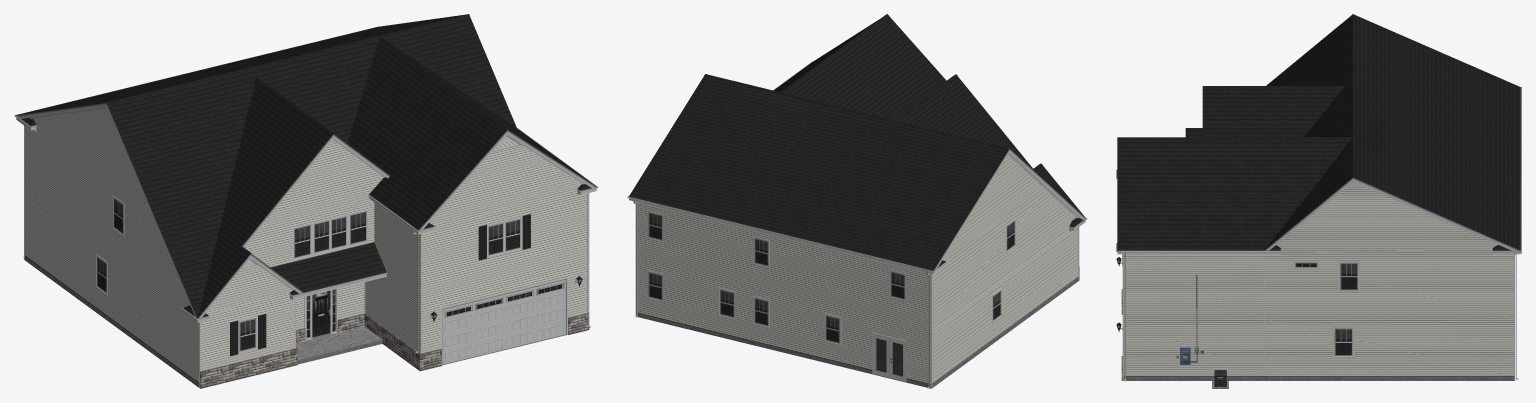
File: house27_mirror1.fbx
3 renders of one model, left to right at view 1: azimuth 30°, elevation 25°; view 2: azimuth 150°, elevation 25°; view 3: azimuth 270°, elevation 25°, orthographic. The views are drawn at different scales.
Visible parts, largest first — view 1: house27_mirror1_LOD0; view 2: house27_mirror1_LOD0; view 3: house27_mirror1_LOD0.
Boxes of the visible parts, box(x1,y1,x2,y2) form: house27_mirror1_LOD0: box(14, 14, 598, 388); house27_mirror1_LOD0: box(627, 14, 1087, 388); house27_mirror1_LOD0: box(1116, 14, 1521, 388).
Size of what is drawn, in the model's own units: 4.71 by 2.67 by 4.76.
